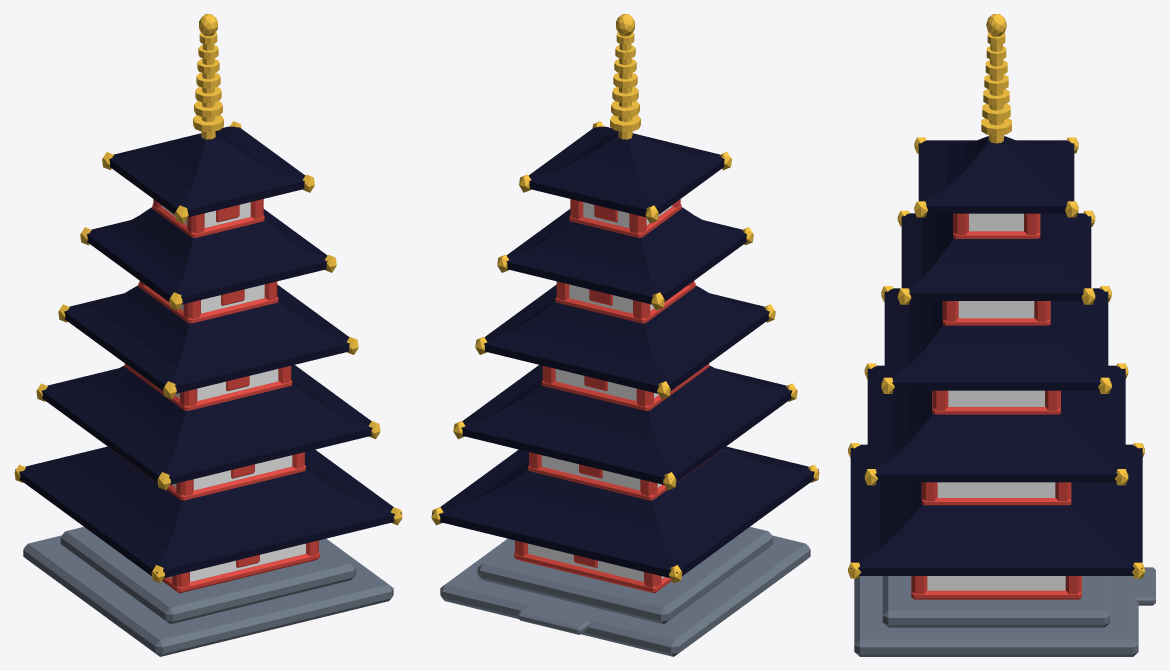
The model's file is Prop_samurai_castle_Pagoda.glb.
3 renders of one model, left to right at view 1: azimuth 30°, elevation 25°; view 2: azimuth 150°, elevation 25°; view 3: azimuth 270°, elevation 25°, orthographic. The views are drawn at different scales.
Parts seen in each view (by area): view 1: RoofInk_0D0F2B, StoneDark_6B7686, ZoneRed_E0453C, Gold_FFC83D, PlasterWhite_FFFFFF; view 2: RoofInk_0D0F2B, StoneDark_6B7686, ZoneRed_E0453C, Gold_FFC83D, PlasterWhite_FFFFFF; view 3: RoofInk_0D0F2B, StoneDark_6B7686, ZoneRed_E0453C, PlasterWhite_FFFFFF, Gold_FFC83D.
Boxes of the visible parts, left/top/right/bottom form: RoofInk_0D0F2B: left=15, top=126, right=401, bottom=579; StoneDark_6B7686: left=23, top=527, right=393, bottom=656; ZoneRed_E0453C: left=111, top=199, right=319, bottom=593; Gold_FFC83D: left=14, top=14, right=402, bottom=583; PlasterWhite_FFFFFF: left=161, top=202, right=305, bottom=581; RoofInk_0D0F2B: left=432, top=126, right=818, bottom=579; StoneDark_6B7686: left=440, top=527, right=810, bottom=656; ZoneRed_E0453C: left=514, top=199, right=722, bottom=593; Gold_FFC83D: left=431, top=14, right=819, bottom=583; PlasterWhite_FFFFFF: left=528, top=202, right=672, bottom=581; RoofInk_0D0F2B: left=850, top=136, right=1142, bottom=575; StoneDark_6B7686: left=854, top=567, right=1155, bottom=656; ZoneRed_E0453C: left=911, top=213, right=1081, bottom=599; PlasterWhite_FFFFFF: left=927, top=213, right=1065, bottom=590; Gold_FFC83D: left=848, top=14, right=1144, bottom=578.
Bounding box in the file's own units: 15.65 × 34.05 × 16.23.
